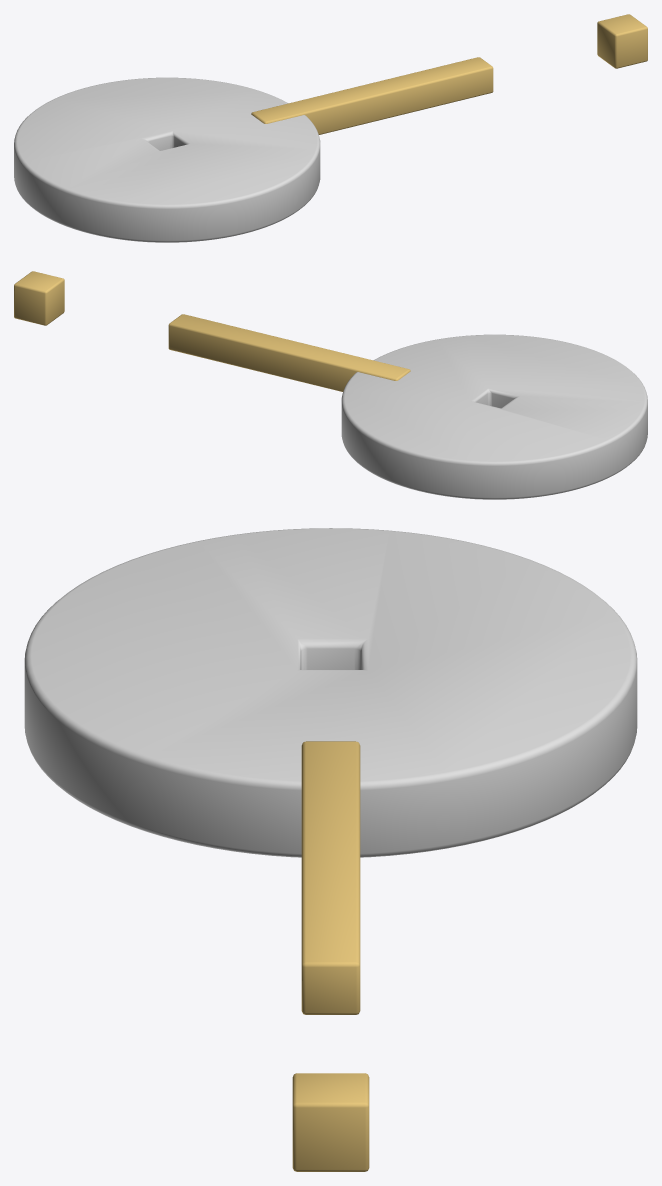
The model's file is key.glb.
The picture shows the model from 3 angles, top to bottom: view 1: azimuth 30°, elevation 25°; view 2: azimuth 150°, elevation 25°; view 3: azimuth 270°, elevation 25°; orthographic projection. The views are drawn at different scales.
Visible parts, largest first — view 1: JadeBi, GoldStem; view 2: JadeBi, GoldStem; view 3: JadeBi, GoldStem.
Boxes of the visible parts, x1,y1,x2,y2 form: JadeBi: [14, 77, 320, 242]; GoldStem: [251, 14, 647, 134]; JadeBi: [341, 334, 647, 499]; GoldStem: [14, 271, 410, 391]; JadeBi: [24, 528, 637, 857]; GoldStem: [292, 741, 369, 1171].
Size of the model in its own units: 2 by 0.139 by 0.88.
